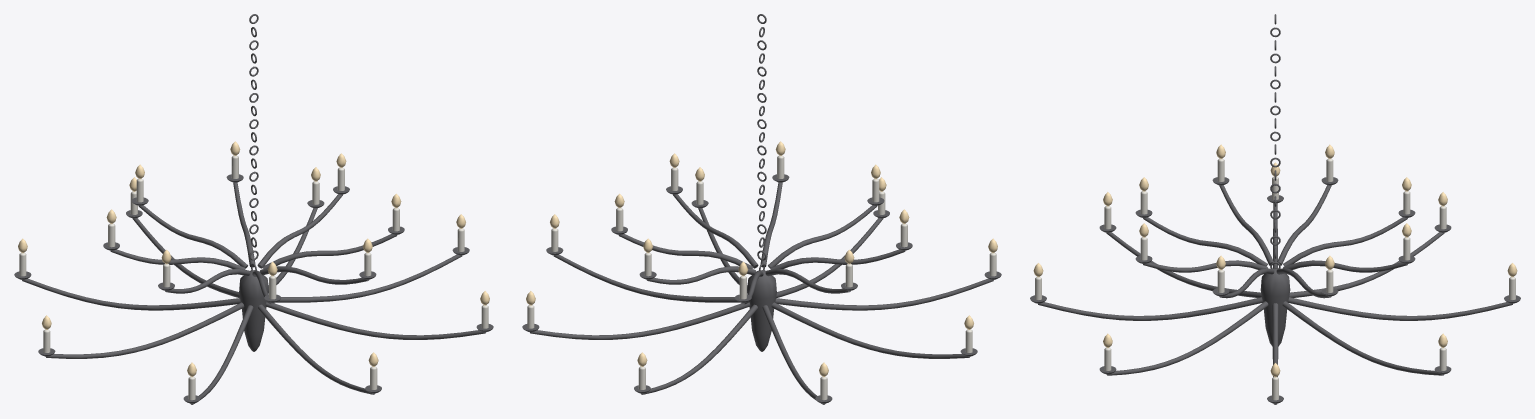
File: lp_chandelier_room.glb
The picture shows the model from 3 angles, left to right: view 1: azimuth 30°, elevation 25°; view 2: azimuth 150°, elevation 25°; view 3: azimuth 270°, elevation 25°; orthographic projection.
Visible parts, largest first — view 1: lp_chandelier_room; view 2: lp_chandelier_room; view 3: lp_chandelier_room.
Boxes of the visible parts, x1,y1,x2,y2 form: lp_chandelier_room: (14, 14, 493, 404); lp_chandelier_room: (522, 14, 1001, 404); lp_chandelier_room: (1030, 14, 1520, 404).
Size of the model in its own units: 2.49 by 1.87 by 2.48.
